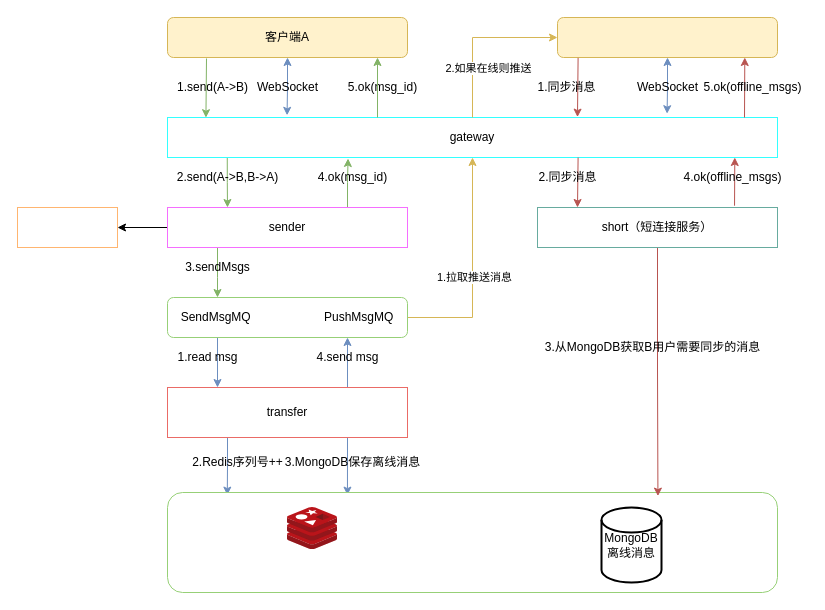
This 825x610 diagram has some shape labels left out. The centre of each missing label's shape, as x and y in pixels:
"id_generator" belongs at [67,227].
"Redis 用户信箱序列号" belongs at [312,528].
"客户端B" belongs at [667,37].
